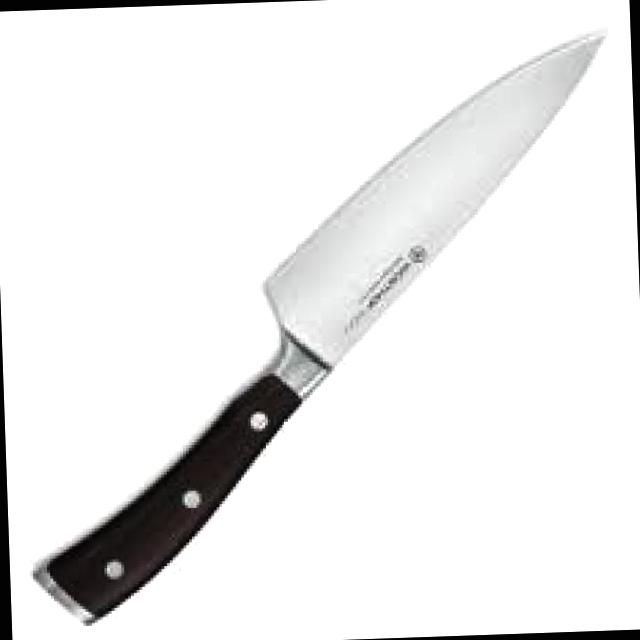knife: (29, 27, 607, 625)
